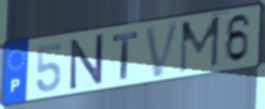5: (34, 40, 64, 93)
6: (222, 13, 252, 65)
M: (177, 14, 222, 76)
N: (69, 32, 105, 92)
T: (111, 30, 139, 81)
V: (143, 19, 183, 80)
